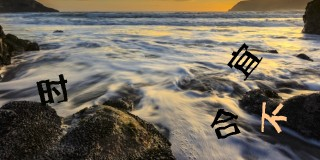不: (260, 101, 288, 135)
合: (212, 108, 241, 138)
宜: (227, 43, 263, 80)
时: (36, 73, 70, 105)
